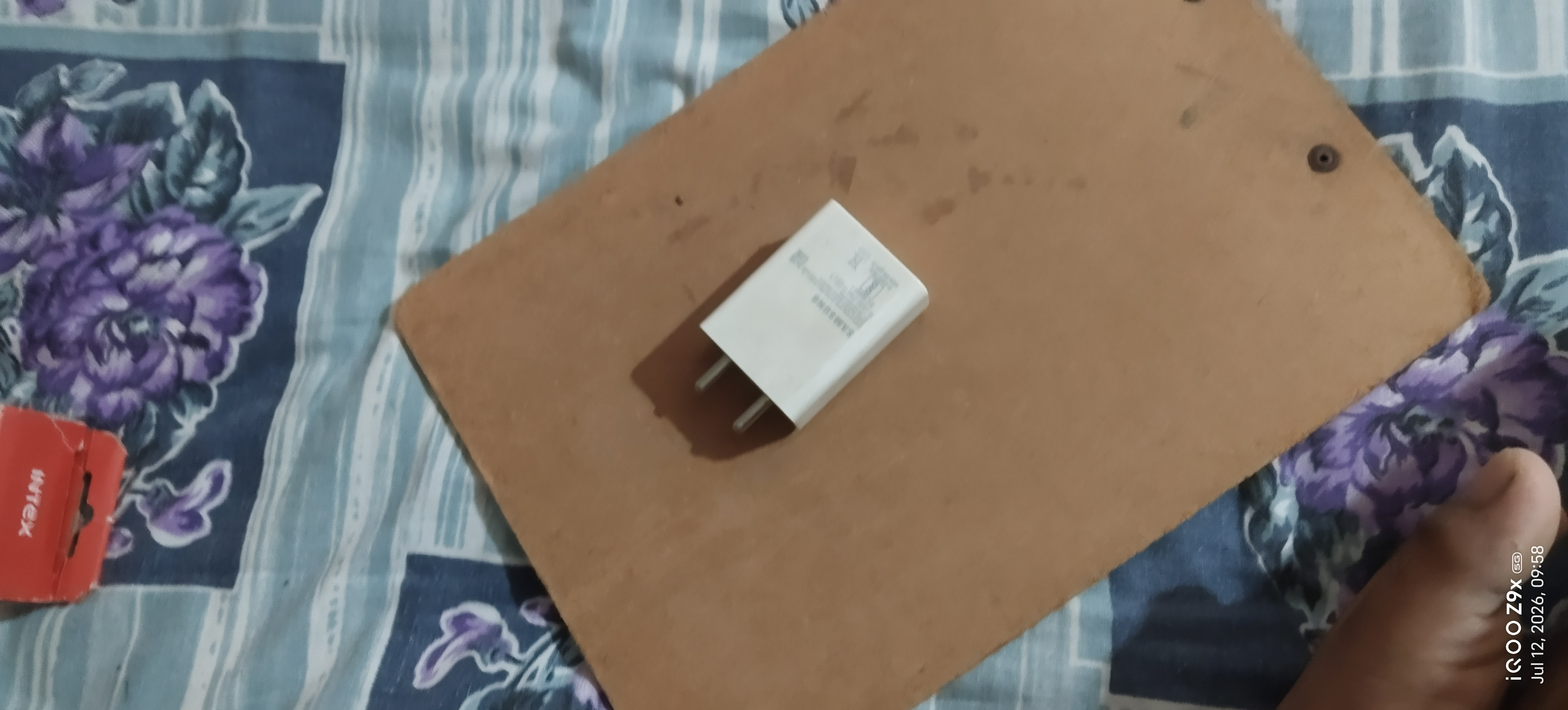charger: (668, 194, 950, 448)
